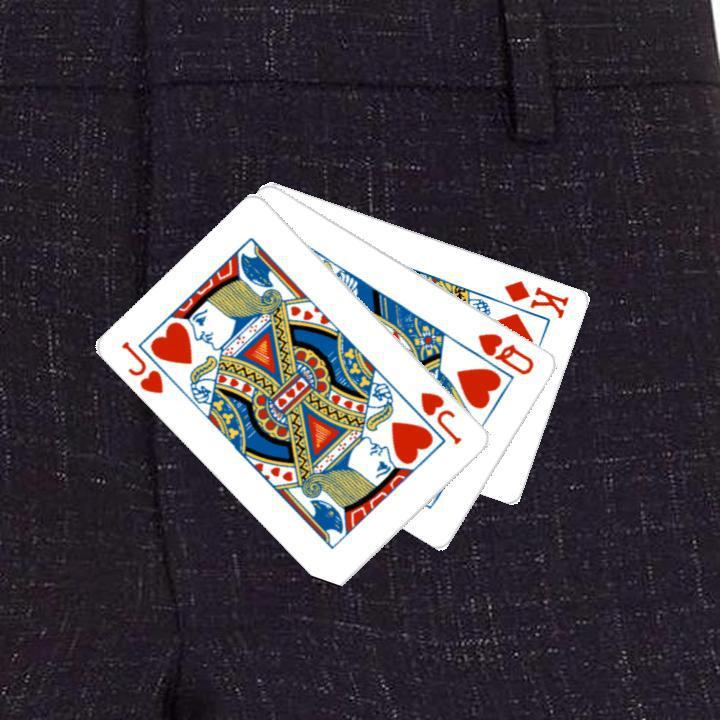J: (416, 387, 465, 447), (117, 336, 166, 396)
K: (500, 275, 572, 321)
Q: (474, 328, 537, 377)
